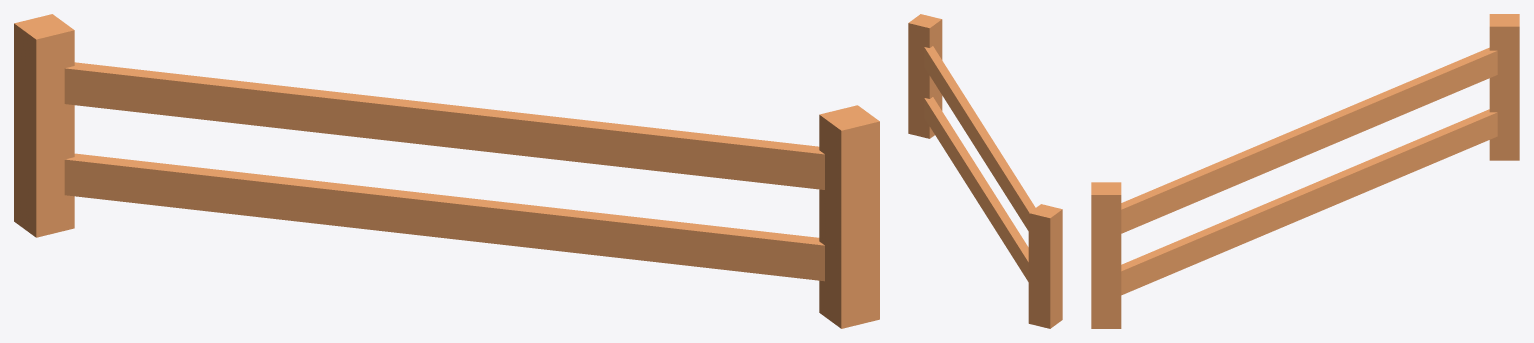
File: fence_diagonal.fbx
3 renders of one model, left to right at view 1: azimuth 30°, elevation 25°; view 2: azimuth 150°, elevation 25°; view 3: azimuth 270°, elevation 25°, orthographic. The views are drawn at different scales.
Visible parts, largest first — view 1: fence_diagonal; view 2: fence_diagonal; view 3: fence_diagonal.
Boxes of the visible parts, x1=… form: fence_diagonal: x1=14, y1=14, x2=879, y2=328; fence_diagonal: x1=908, y1=14, x2=1062, y2=328; fence_diagonal: x1=1091, y1=14, x2=1519, y2=328.
Size of the model in its own units: 10 by 3.45 by 10.
